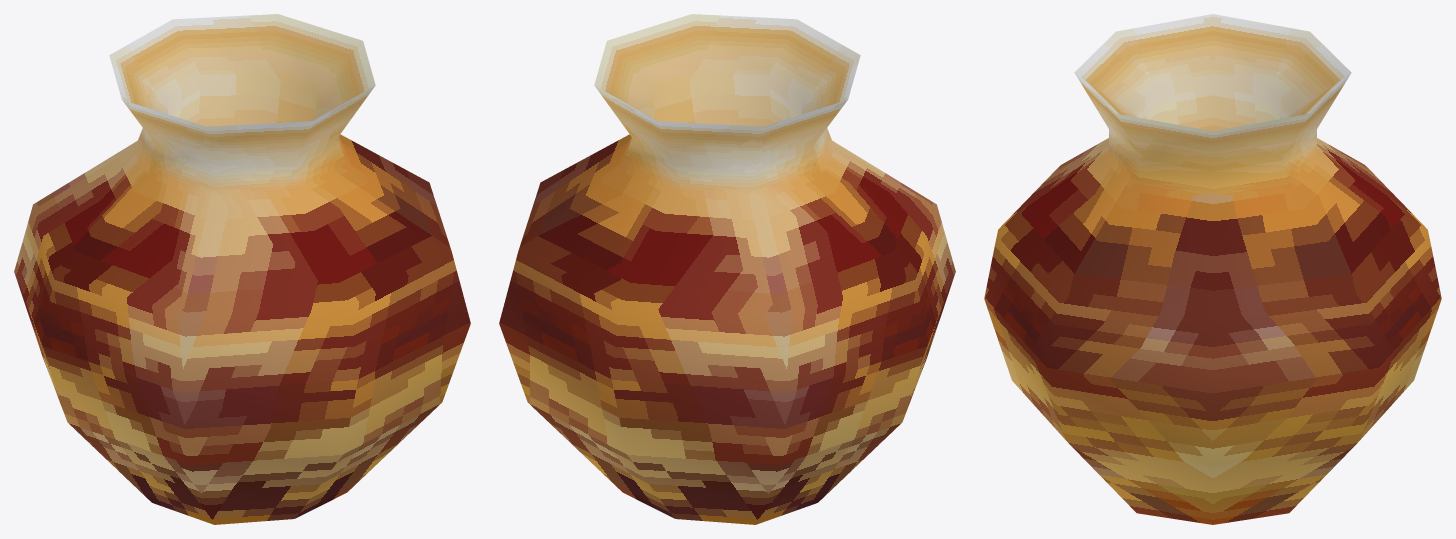
Rendered from otubo9.glb.
3 views of the same model, side by side, from view 1: azimuth 30°, elevation 25°; view 2: azimuth 150°, elevation 25°; view 3: azimuth 270°, elevation 25° (orthographic).
Parts seen in each view (by area): view 1: otubo9; view 2: otubo9; view 3: otubo9.
Part boxes in pixels (x1,y1,x2,y2): otubo9: (14, 14, 470, 524); otubo9: (499, 14, 955, 524); otubo9: (984, 14, 1441, 524).
Bounding box in the file's own units: 82.75 × 82.75 × 82.75.
Materials: 1 (1 with a texture image).
